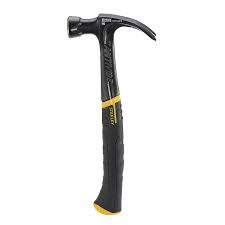hammer: (66, 12, 157, 215)
